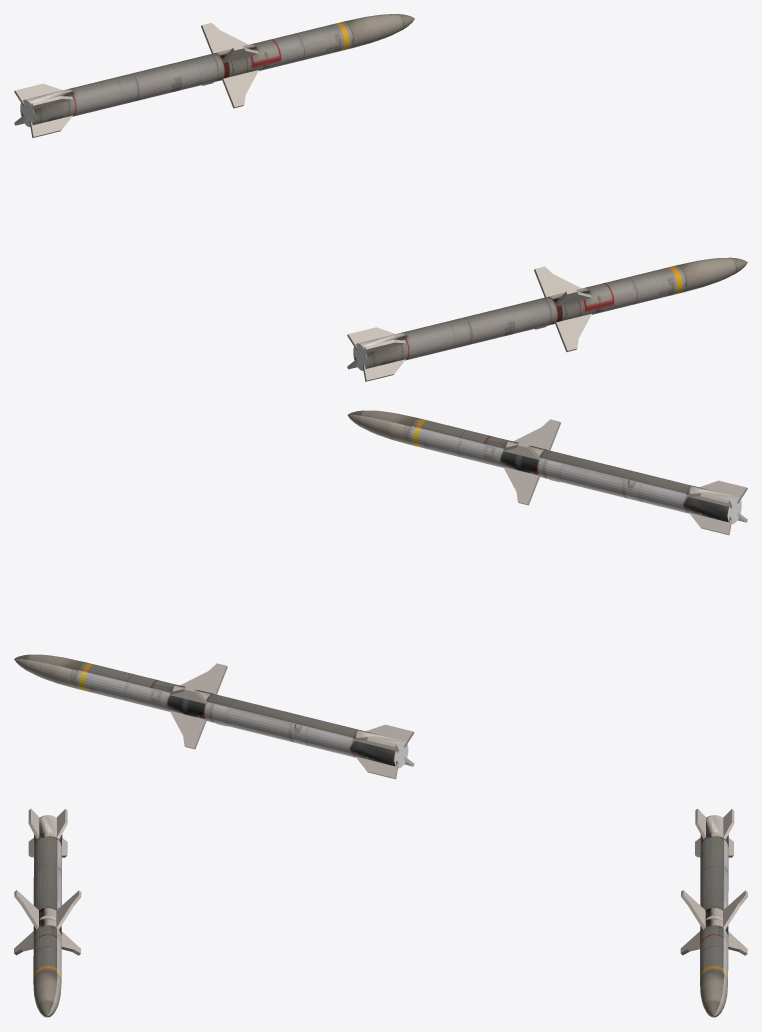
Rendered from f16cagm8814.glb.
3 views of the same model, one above another, from view 1: azimuth 30°, elevation 25°; view 2: azimuth 150°, elevation 25°; view 3: azimuth 270°, elevation 25° (orthographic).
Parts seen in each view (by area): view 1: 円柱.002, 円柱.005; view 2: 円柱.002, 円柱.005; view 3: 円柱.002, 円柱.005.
Boxes of the visible parts, <box> form: 円柱.002: <box>347,257,747,381</box>; 円柱.005: <box>14,14,414,137</box>; 円柱.002: <box>347,410,747,535</box>; 円柱.005: <box>14,654,414,779</box>; 円柱.002: <box>14,809,81,1017</box>; 円柱.005: <box>680,808,747,1017</box>.
Size of the model in its own units: 4.9 by 0.7319 by 7.97.
Materials: 2 (1 with a texture image).
